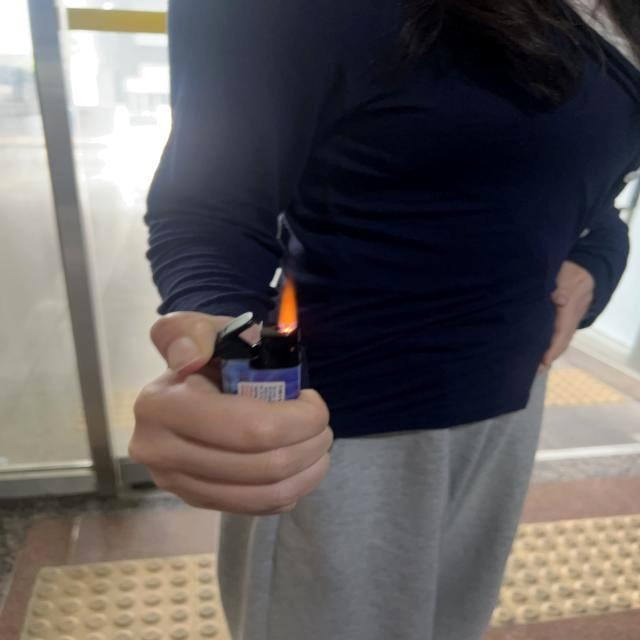fire: (277, 272, 299, 338)
